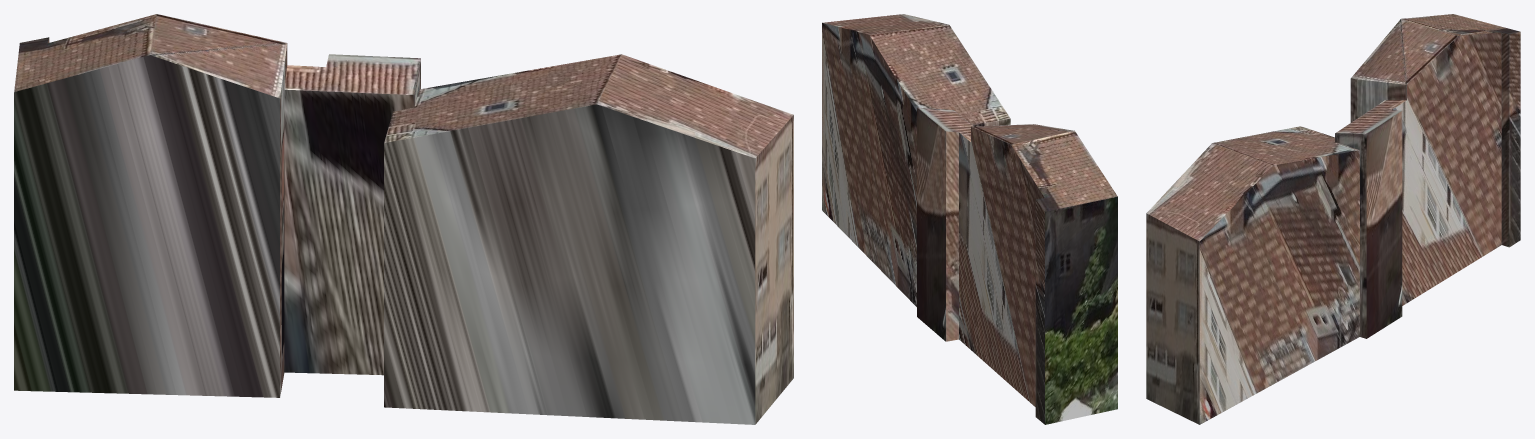
The picture shows the model from 3 angles, left to right: view 1: azimuth 30°, elevation 25°; view 2: azimuth 150°, elevation 25°; view 3: azimuth 270°, elevation 25°; orthographic projection. The views are drawn at different scales.
Parts seen in each view (by area): view 1: Z_UP; view 2: Z_UP; view 3: Z_UP.
Boxes of the visible parts, x1,y1,x2,y2 form: Z_UP: (14,14,793,424); Z_UP: (822,14,1117,424); Z_UP: (1146,14,1520,424).
Bounding box in the file's own units: 27.37 × 14.85 × 21.31.
2 materials, 1 textured.
